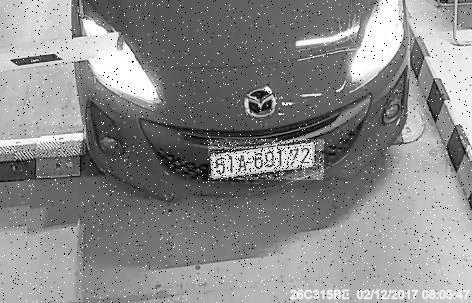License-plate: (209, 140, 325, 181)
